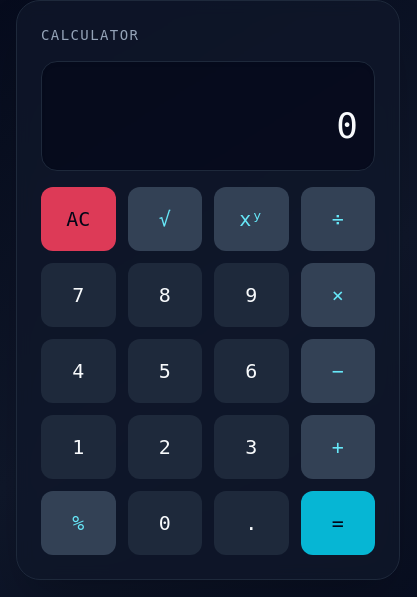
Test: <Calculator /> › unary sqrt runs through backend
The width and height of the screenshot is (417, 597).
Click the button "9": {"x": 251, "y": 295} left=214, top=263, right=288, bottom=327
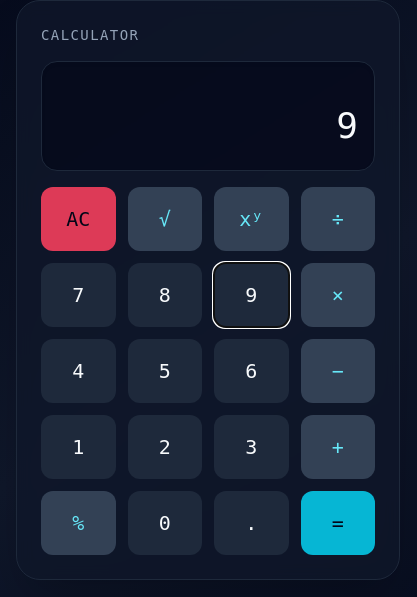
Click the button named "square root": {"x": 165, "y": 219} left=128, top=187, right=202, bottom=251
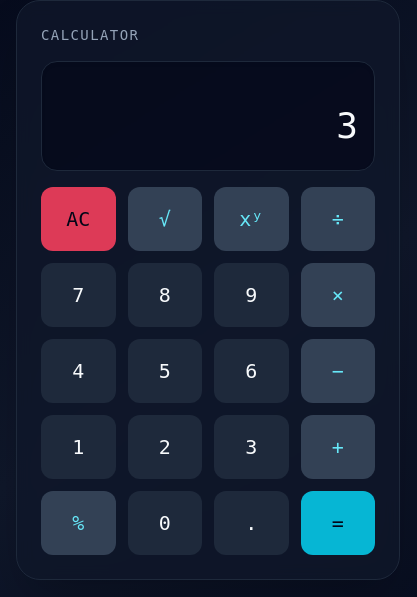
Expected: the text with test id "display" reads "3", left=336, top=105, right=358, bottom=146
